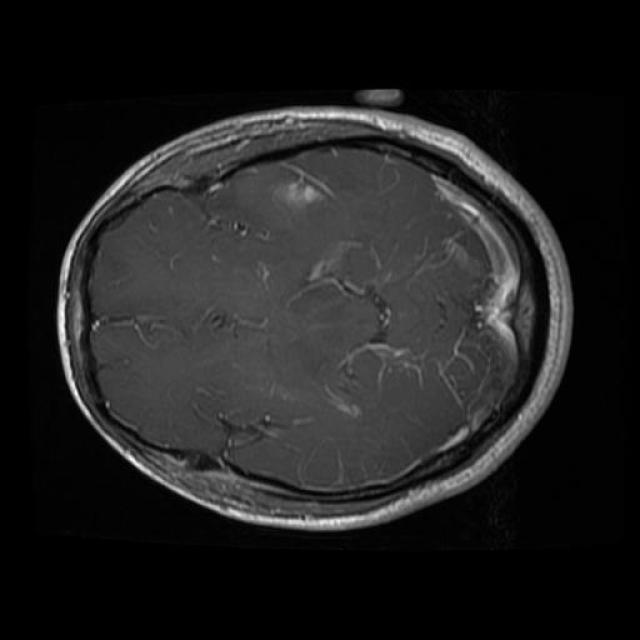Glioma: (276, 163, 334, 204)
